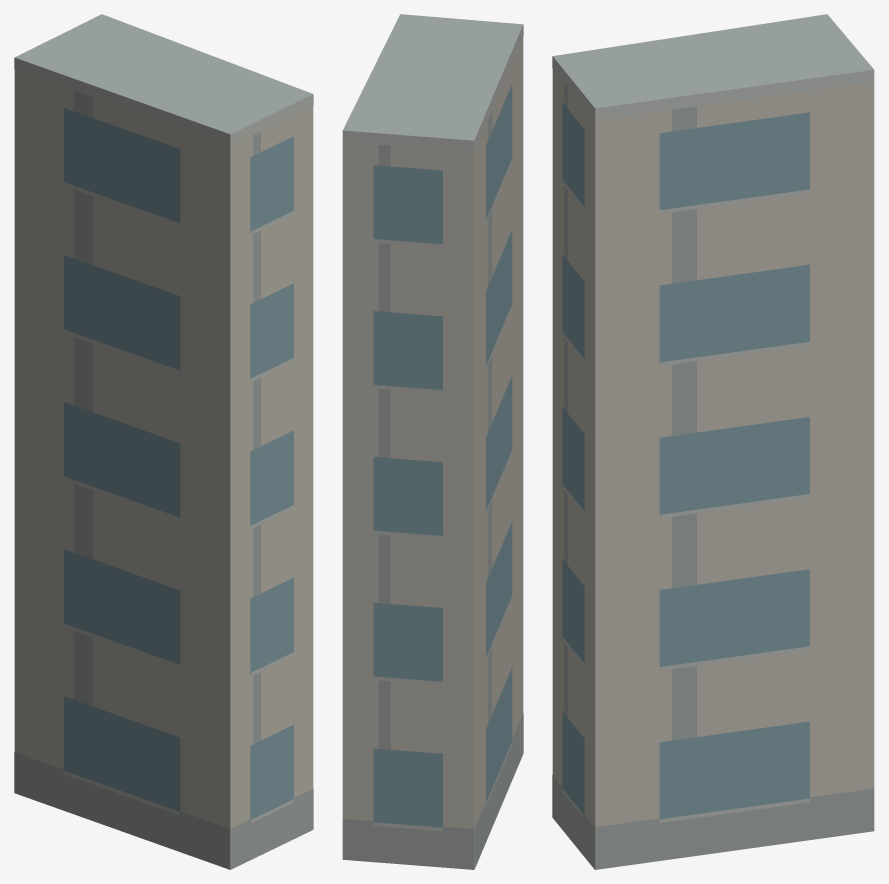
Rendered from survey-upis-32644731.glb.
3 renders of one model, left to right at view 1: azimuth 30°, elevation 25°; view 2: azimuth 150°, elevation 25°; view 3: azimuth 270°, elevation 25°, orthographic. The views are drawn at different scales.
Parts seen in each view (by area): view 1: survey-upis-32644731.tmp; view 2: survey-upis-32644731.tmp; view 3: survey-upis-32644731.tmp.
Boxes of the visible parts, box(x1,y1,x2,y2) form: survey-upis-32644731.tmp: box(14, 14, 313, 869); survey-upis-32644731.tmp: box(342, 14, 523, 869); survey-upis-32644731.tmp: box(552, 14, 874, 869).
Bounding box in the file's own units: 4.06 × 15.25 × 5.85.
